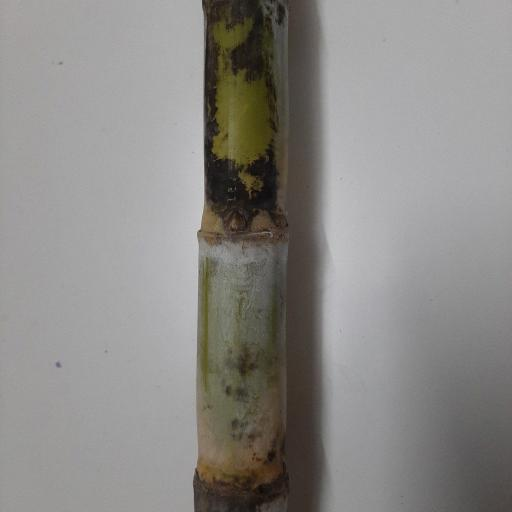Bud: (224, 211, 248, 235)
